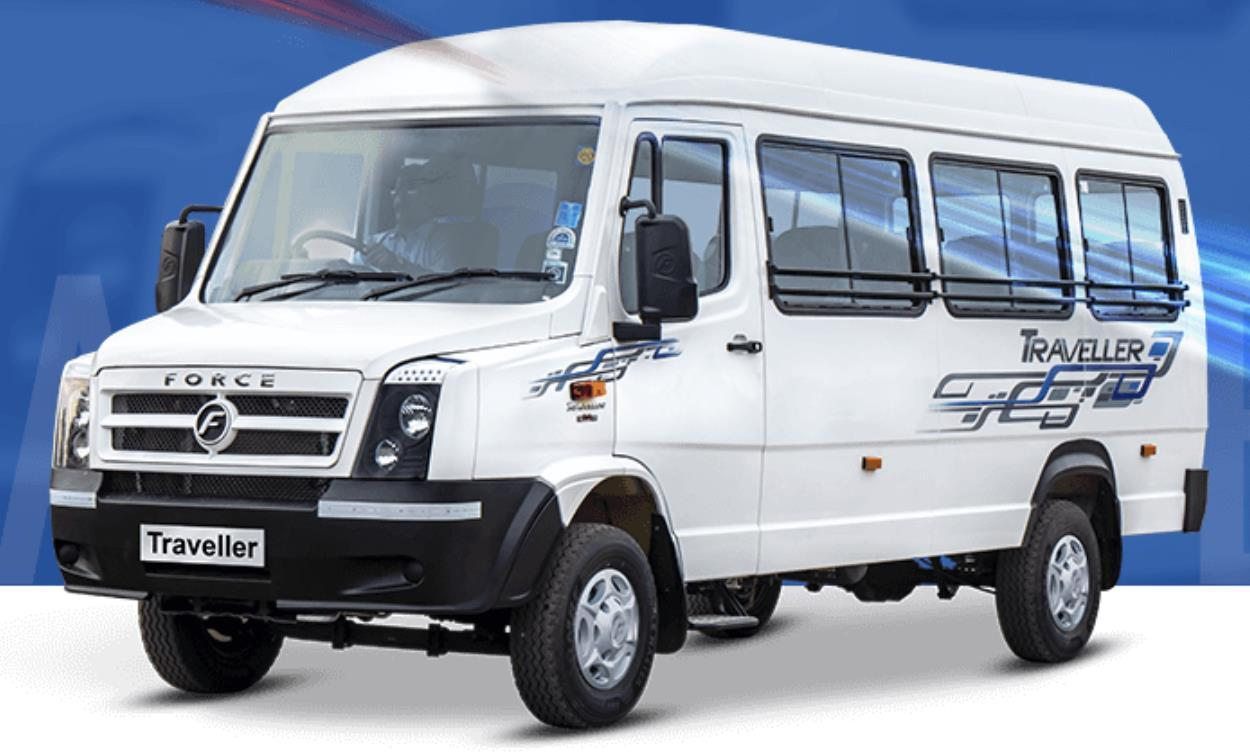car: (54, 15, 1218, 729)
